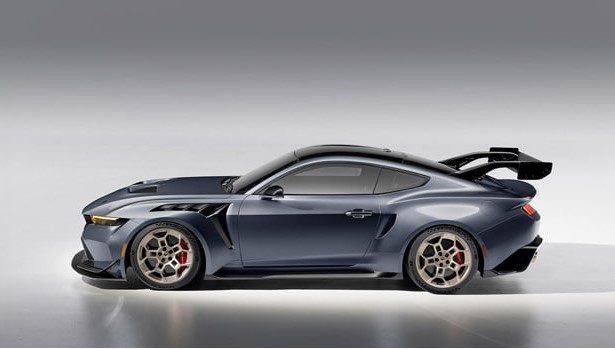car: (69, 142, 555, 296)
